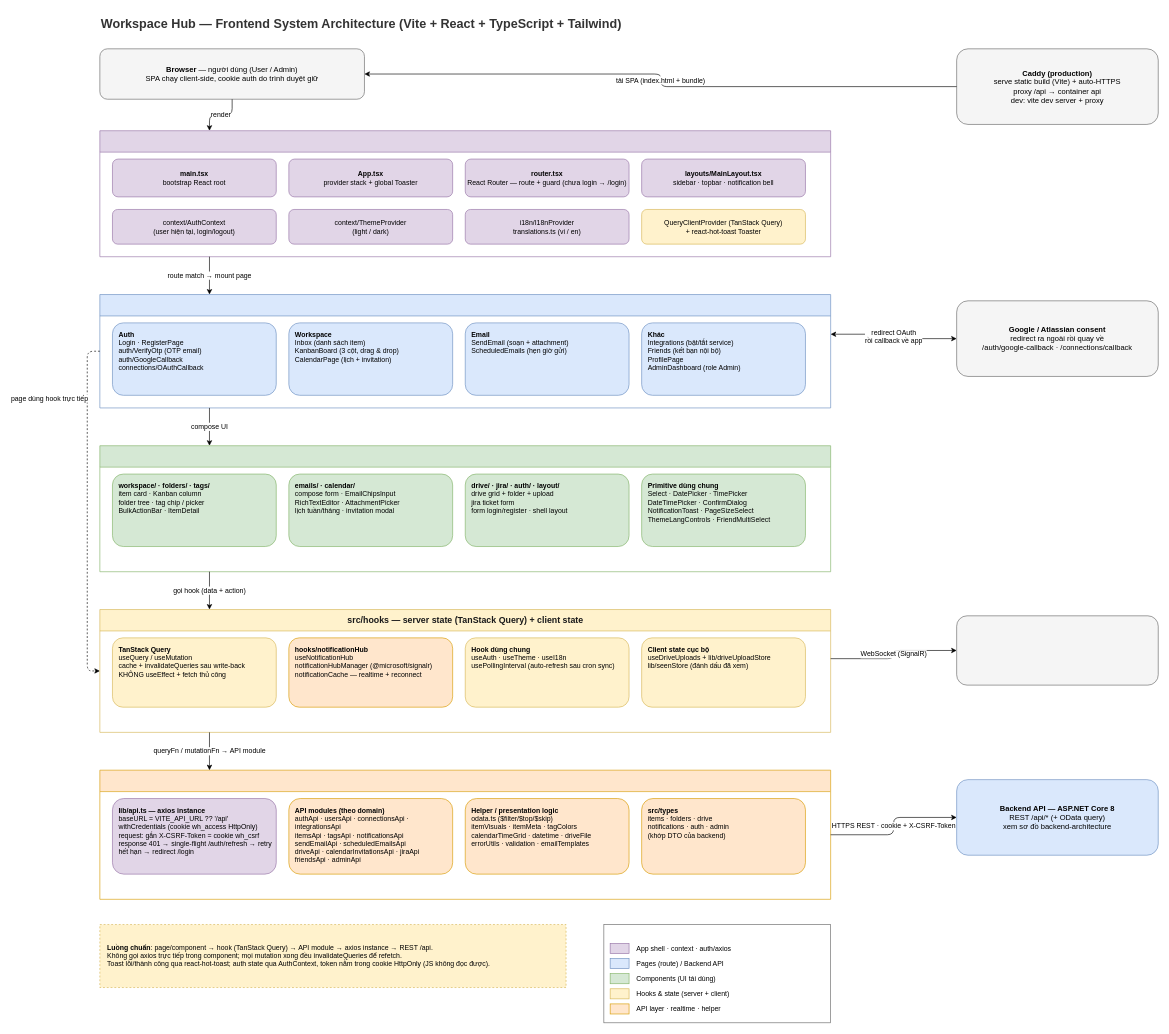
Some shapes in this 1169 by 1034 pixel diagram are drawn without their labels. Each missing label, with the box of its shape:
App shell & Routing: (99, 130, 831, 257)
Legend: (603, 924, 831, 1023)
SignalR Hub /api/hubs/notifications (thông báo realtime, tự reconnect): (956, 615, 1158, 685)
src/components — UI tái dùng (Tailwind utility, không CSS framework khác): (99, 445, 831, 572)
src/lib + src/types — API layer (axios): (99, 770, 831, 899)
src/pages — màn hình (mỗi route 1 page): (99, 294, 831, 408)
